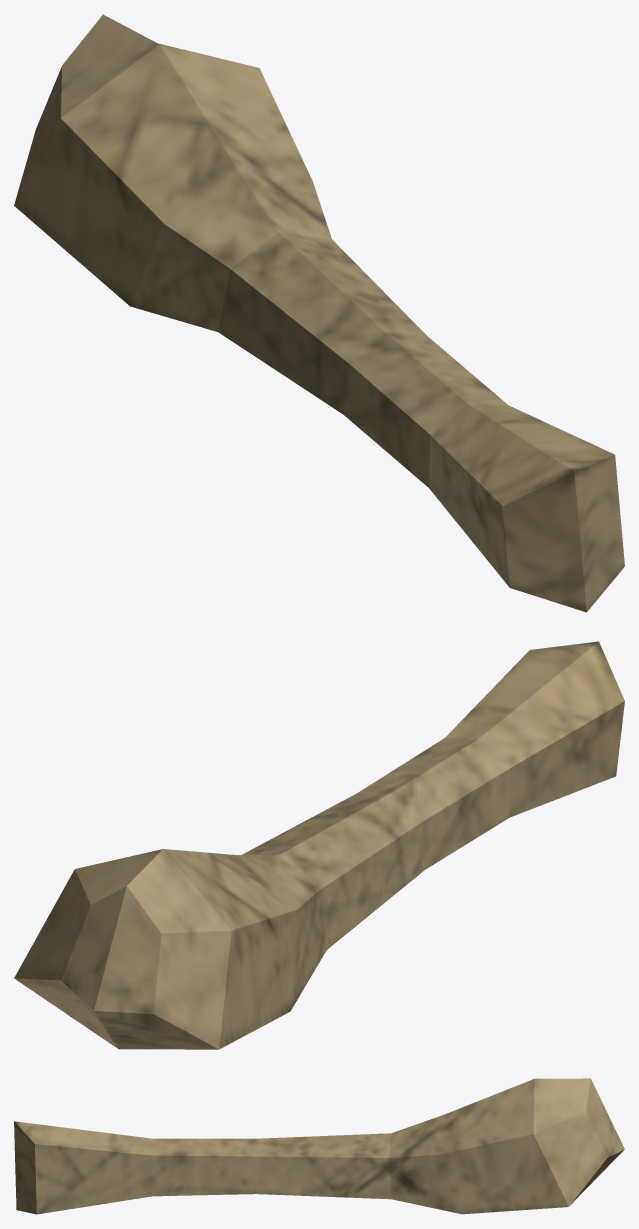
The model's file is Bone.FBX.
3 views of the same model, one above another, from view 1: azimuth 30°, elevation 25°; view 2: azimuth 150°, elevation 25°; view 3: azimuth 270°, elevation 25° (orthographic). The views are drawn at different scales.
Parts seen in each view (by area): view 1: Bone_01; view 2: Bone_01; view 3: Bone_01.
Boxes of the visible parts, bbox=[...] form: Bone_01: bbox=[14, 14, 624, 612]; Bone_01: bbox=[14, 641, 624, 1049]; Bone_01: bbox=[14, 1078, 624, 1214].
Bounding box in the file's own units: 4.01 × 3.77 × 15.25.
